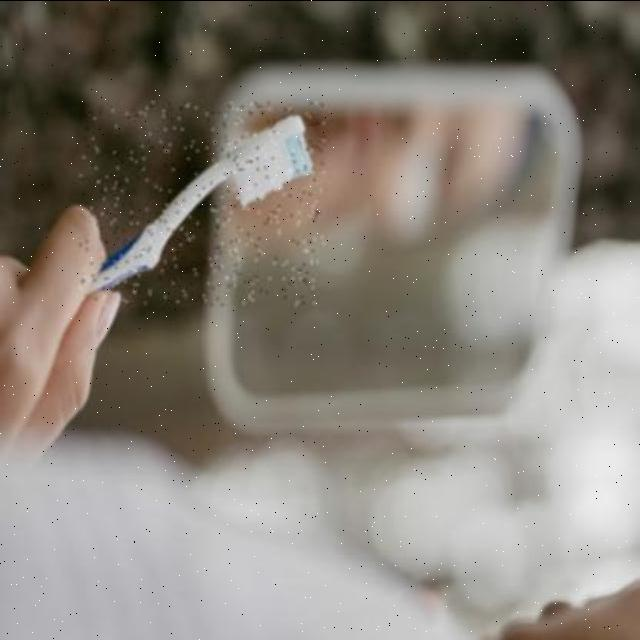toothbrush: (80, 100, 324, 304)
